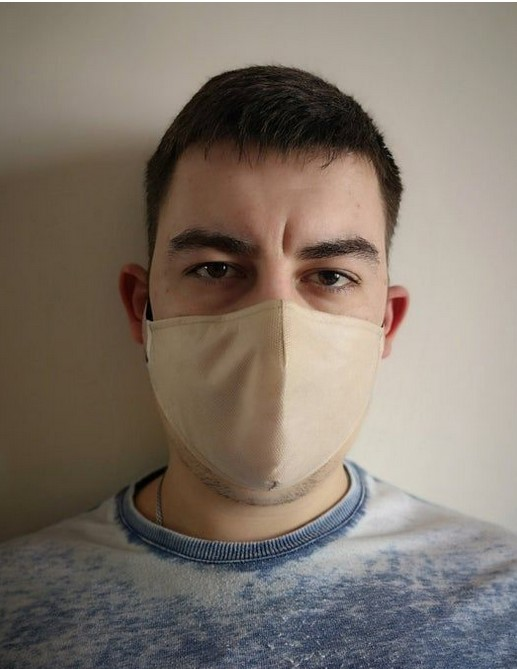face_with_mask: (119, 70, 412, 499)
